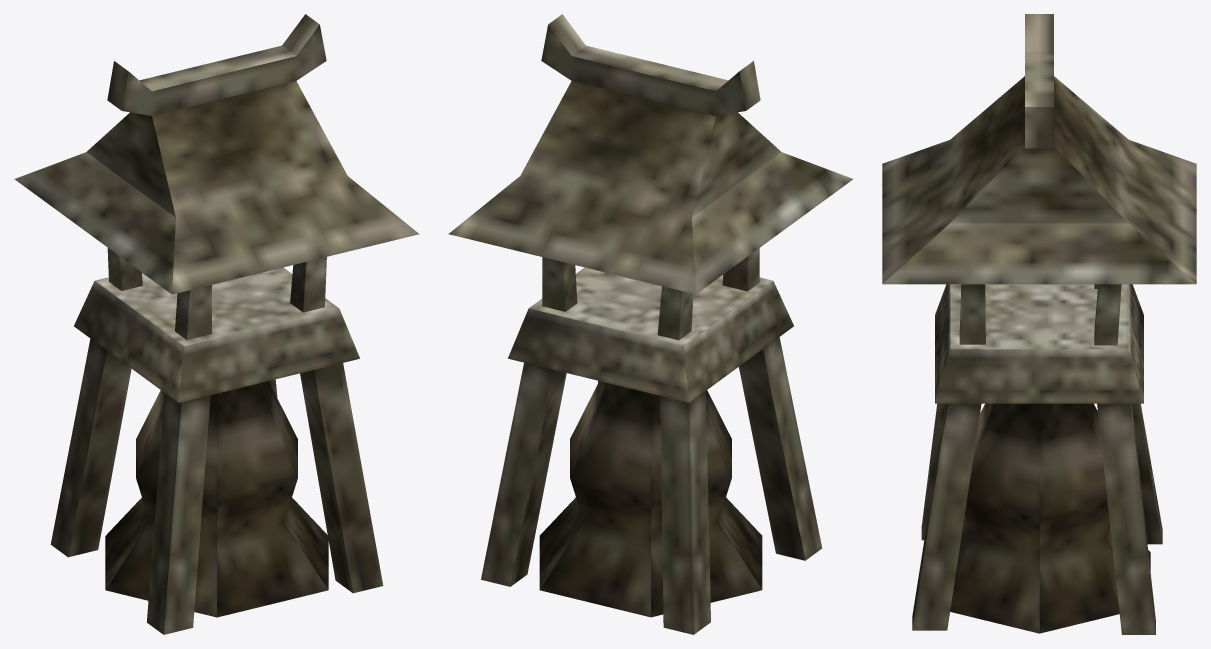
File: general_obj_brazier.glb
3 views of the same model, side by side, from view 1: azimuth 30°, elevation 25°; view 2: azimuth 150°, elevation 25°; view 3: azimuth 270°, elevation 25° (orthographic).
Parts seen in each view (by area): view 1: Object14; view 2: Object14; view 3: Object14.
Boxes of the visible parts, x1=… form: Object14: x1=14, y1=14, x2=419, y2=634; Object14: x1=448, y1=14, x2=853, y2=634; Object14: x1=882, y1=14, x2=1196, y2=634.
Bounding box in the file's own units: 0.6386 × 1.29 × 0.7047.
1 material, 1 textured.
